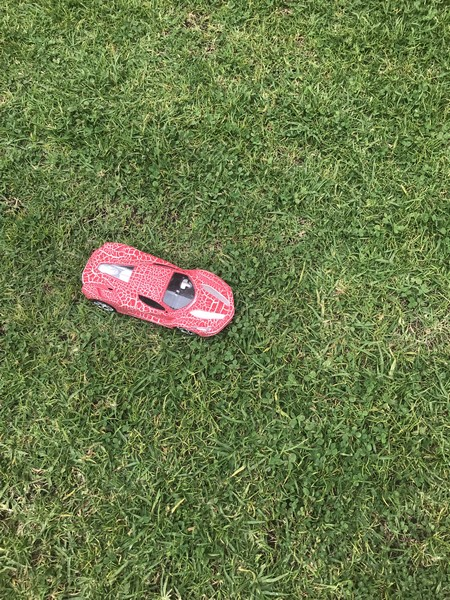RC: (81, 242, 236, 342)
